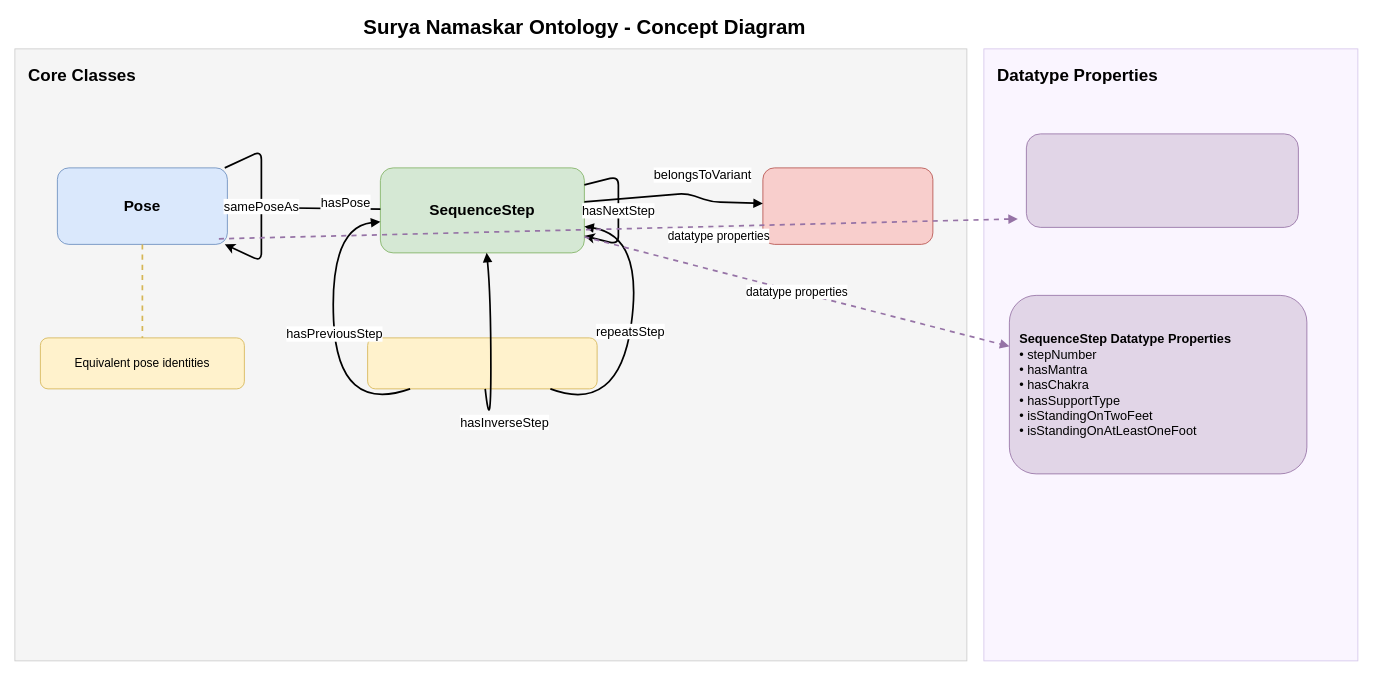
Some shapes in this 1373 by 676 pixel diagram are drawn without their labels. Here are the shapes that lost their labels. From the top down, the centre of each, then its label:
At (1162,180): "Pose Datatype Properties • hasCYPPage • hasAlternateName".
At (847,205): "Variant".
At (482,363): "Sequential and symmetry relations".
